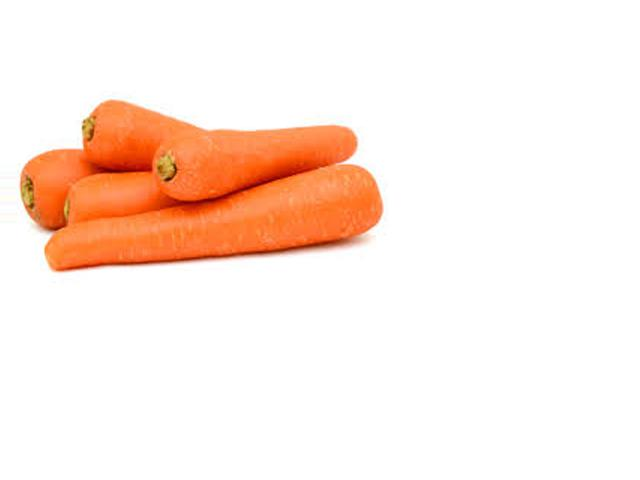carrot: (75, 104, 216, 175)
